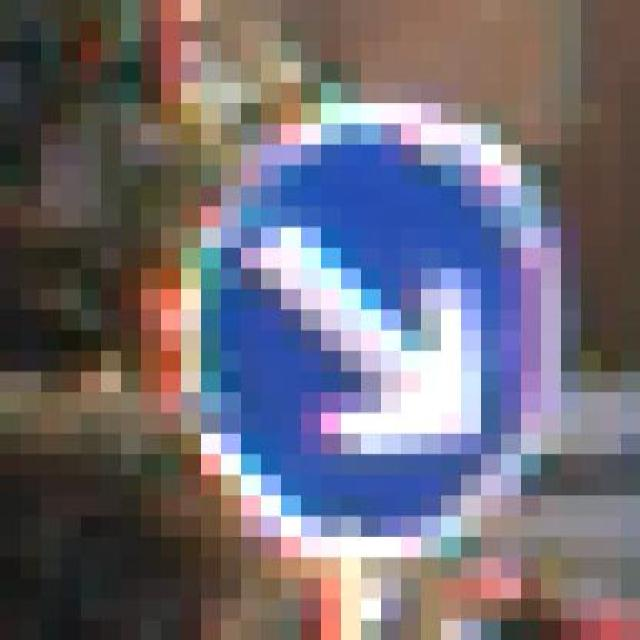Keep-Right: (120, 82, 600, 600)
